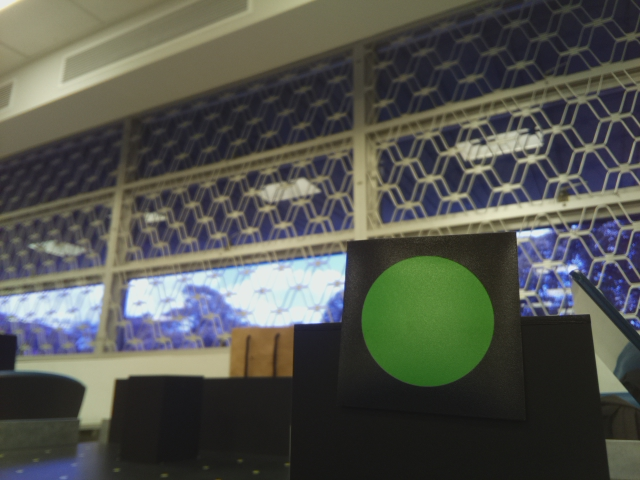go: (354, 250, 508, 399)
